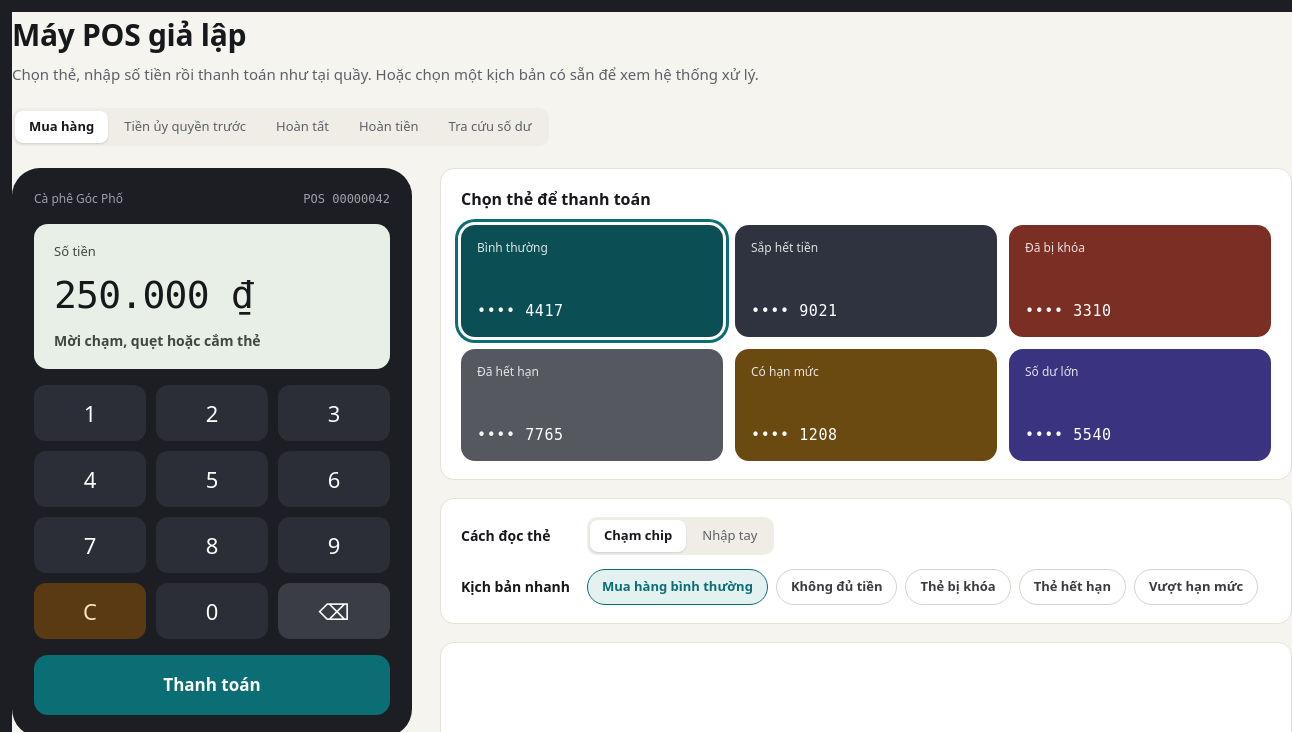
Test: PosScreen › an amount of 0 is refused on the terminal without sending anything
The width and height of the screenshot is (1292, 732).
Click the button named "Xóa hết".
click(90, 611)  # box [34,583,146,639]
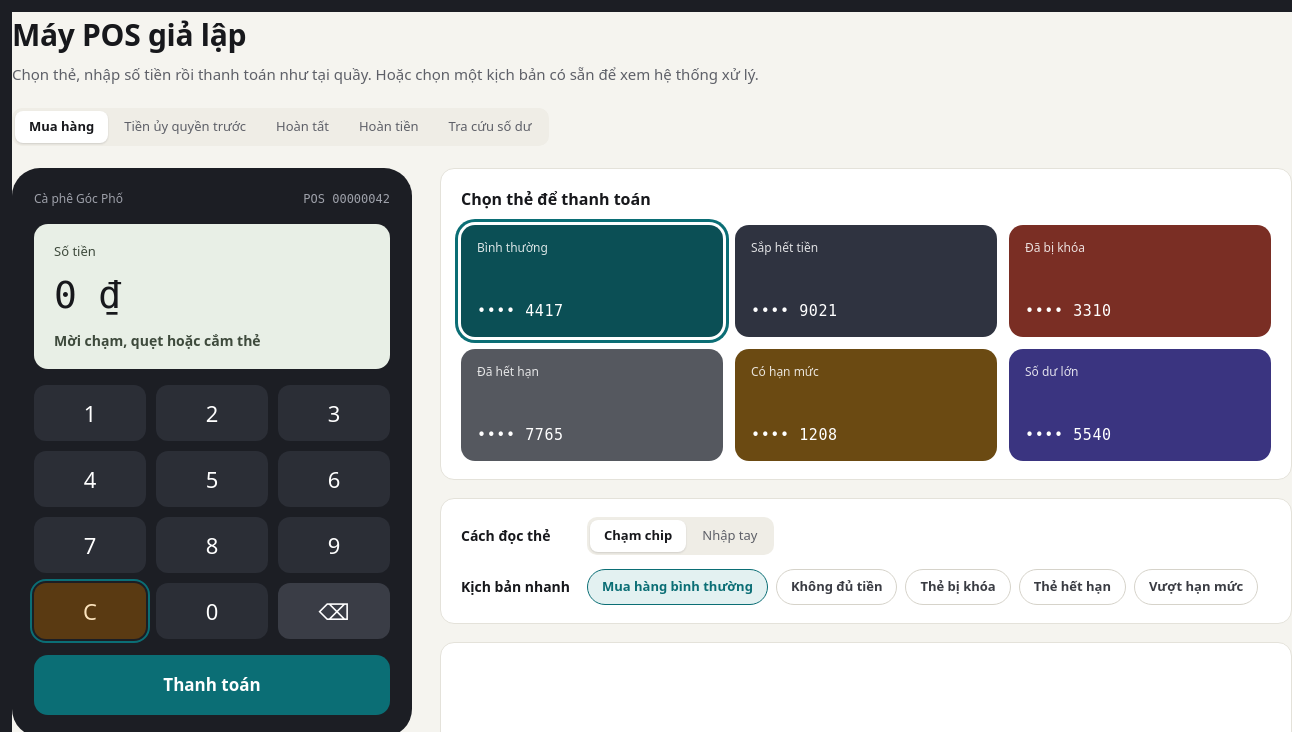
Click the button "Thanh toán".
click(212, 685)  # box [34,655,390,715]
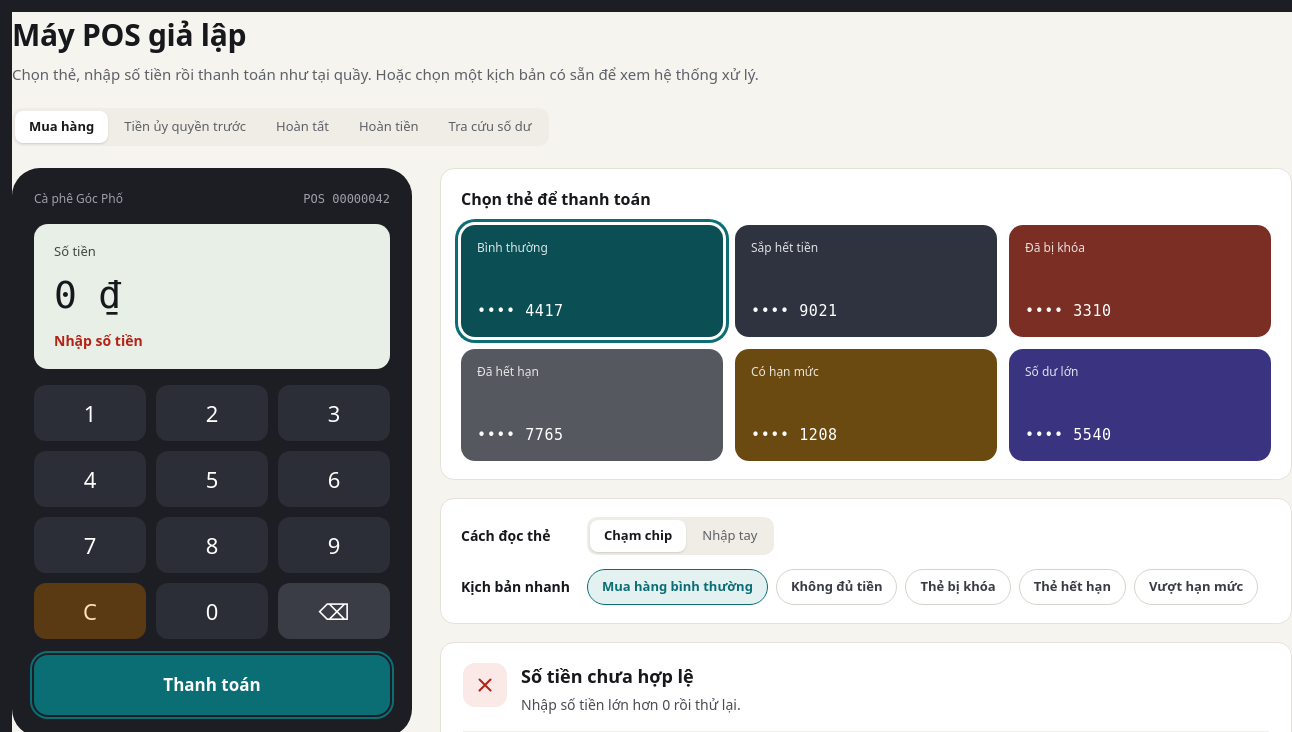
Expected: the text "Số tiền chưa hợp lệ" is shown, [521,664,694,688]
Expected: the message shows "Nhập số tiền", [54,331,143,350]
